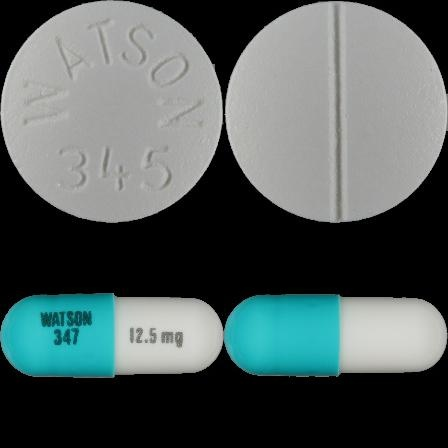0591-0345: (0, 0, 224, 224)
